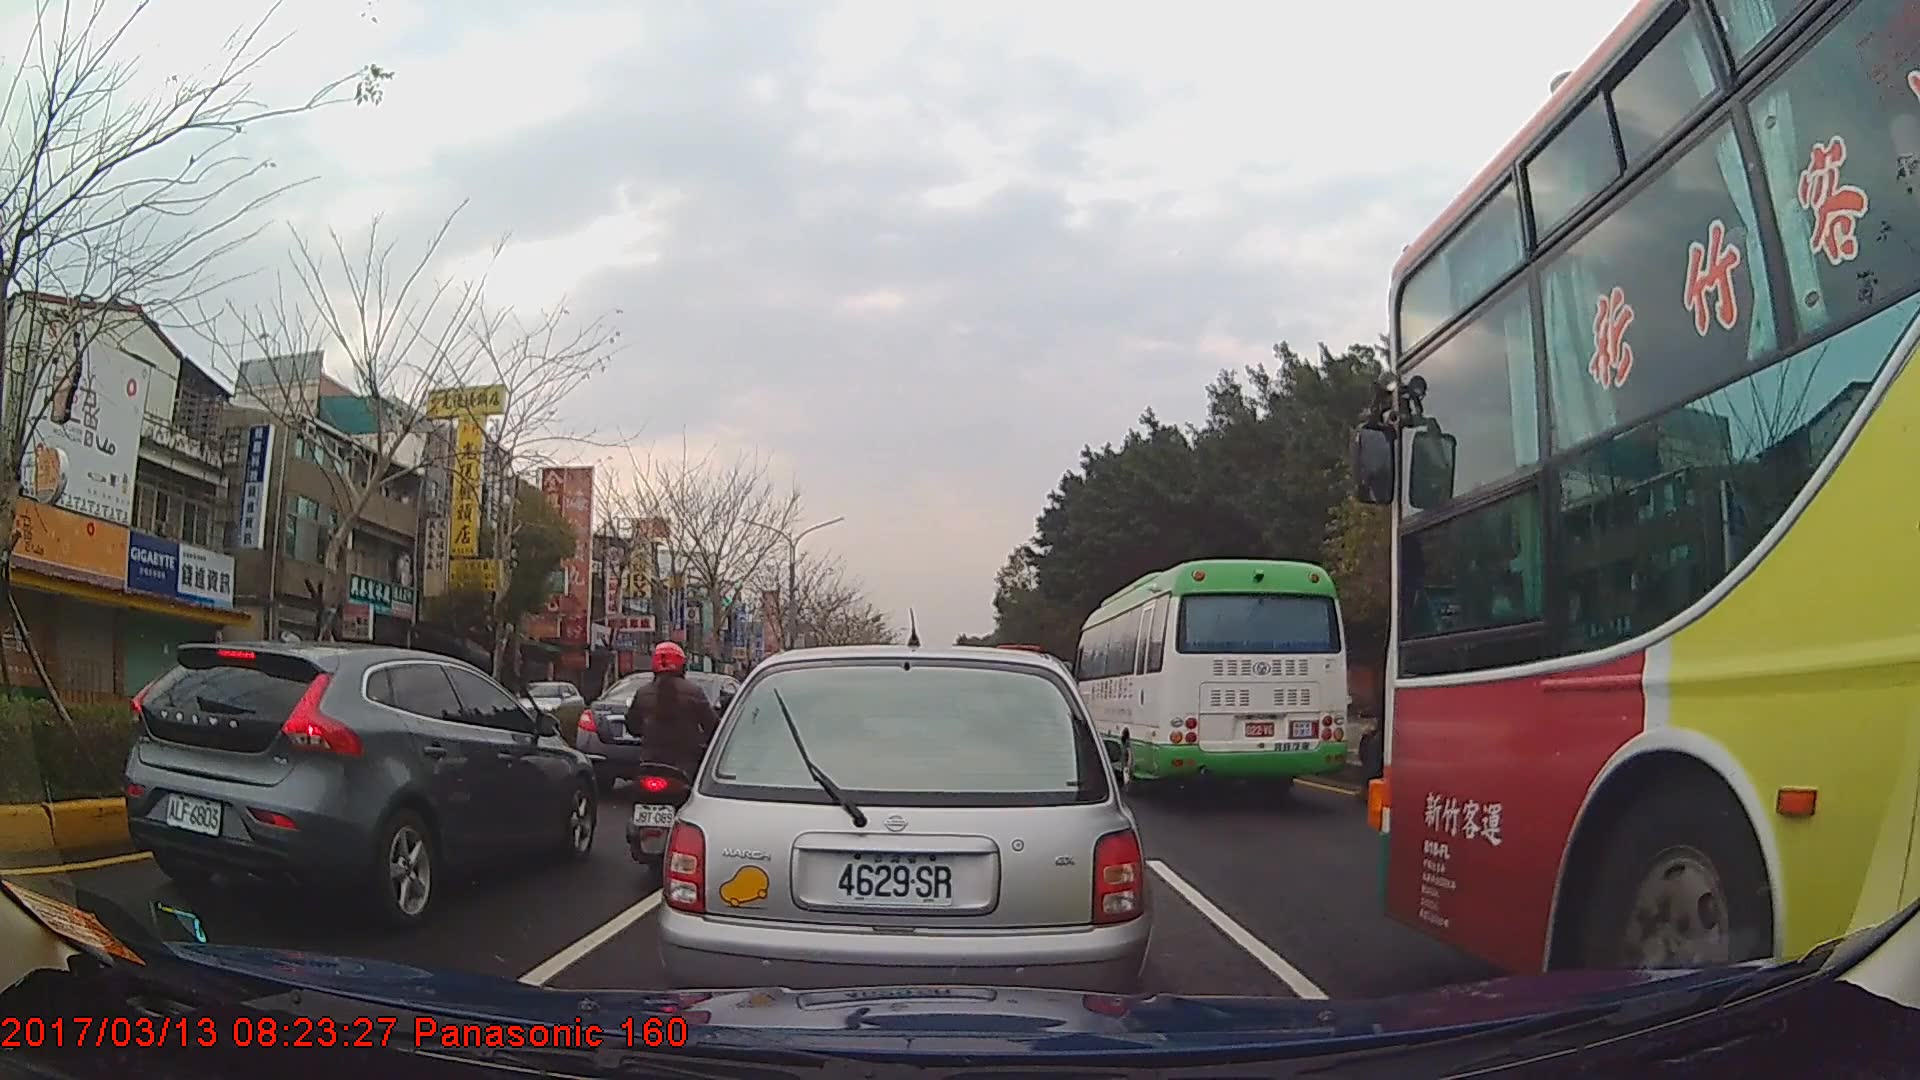rider: (621, 638, 733, 872)
vehicle: (1383, 0, 1920, 1018), (659, 639, 1152, 1026), (121, 638, 595, 930), (1070, 555, 1347, 800), (577, 668, 763, 790), (511, 680, 582, 729)
